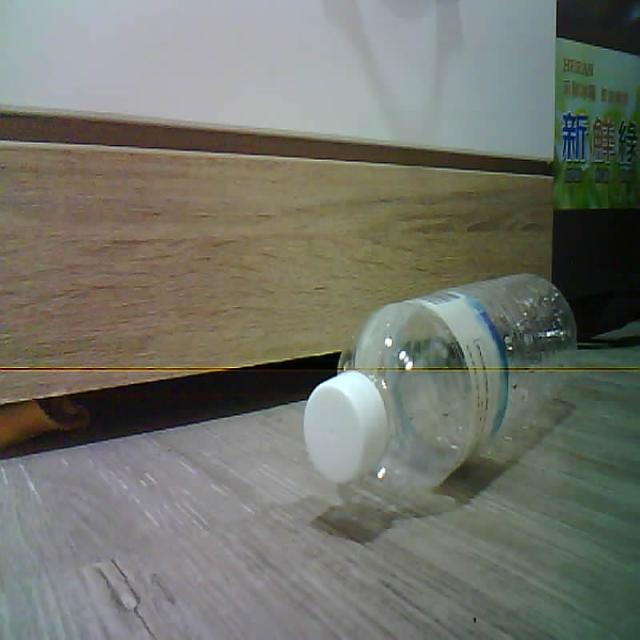bottle: (303, 274, 576, 496)
